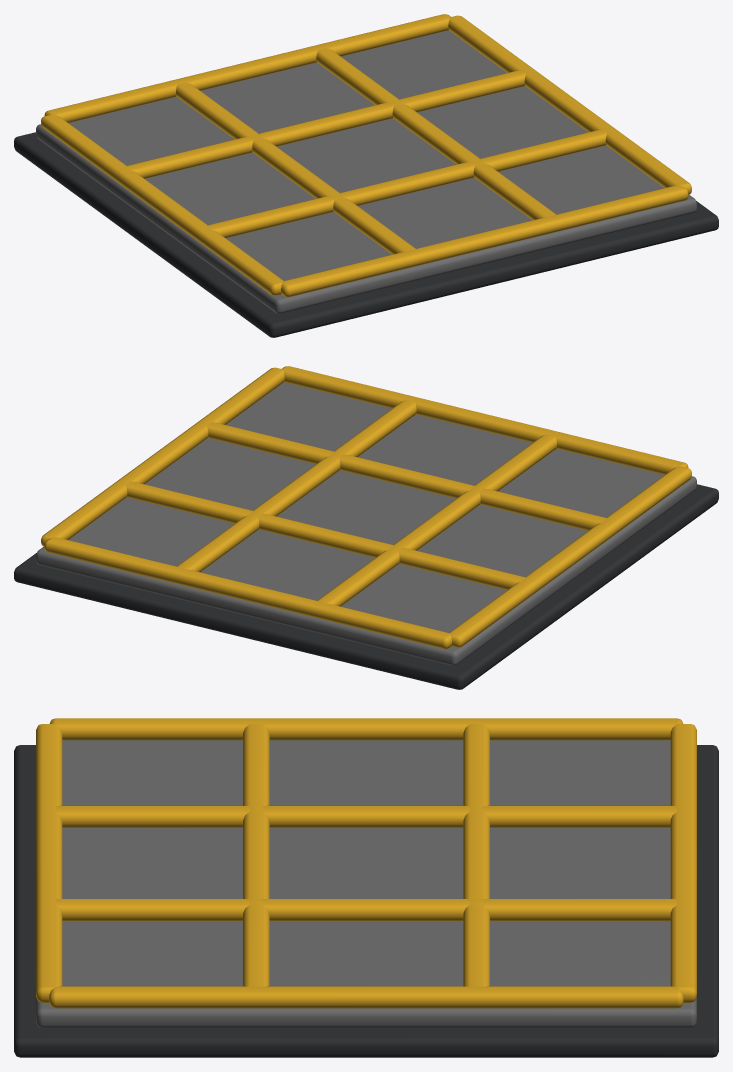
File: workshop.glb
3 renders of one model, top to bottom at view 1: azimuth 30°, elevation 25°; view 2: azimuth 150°, elevation 25°; view 3: azimuth 270°, elevation 25°, orthographic. The views are drawn at different scales.
Visible parts, largest first — view 1: workshop; view 2: workshop; view 3: workshop.
Part boxes in pixels (bbox=[...]): workshop: bbox=[14, 14, 718, 337]; workshop: bbox=[14, 366, 718, 689]; workshop: bbox=[14, 718, 718, 1057].
Size of the model in its own units: 3.2 by 0.28 by 3.2.
